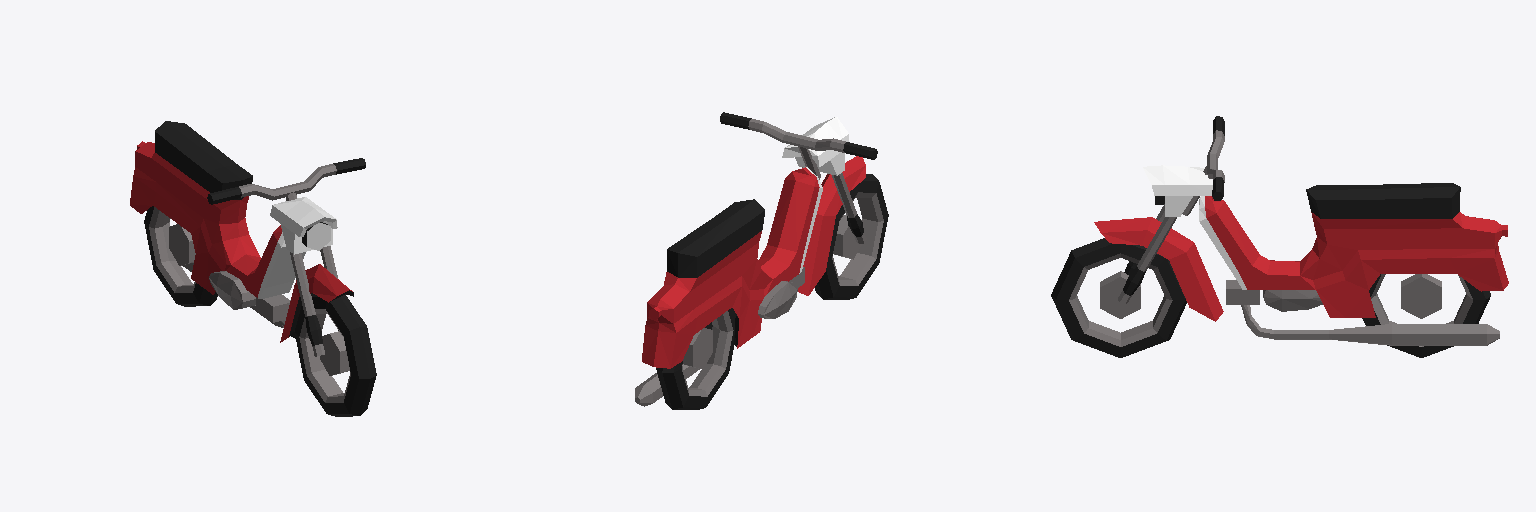
Rendered from Motor.obj.
The picture shows the model from 3 angles: view 1: azimuth 30°, elevation 25°; view 2: azimuth 150°, elevation 25°; view 3: azimuth 270°, elevation 25°; orthographic projection.
Visible parts, largest first — view 1: motorbike-old (1); view 2: motorbike-old (1); view 3: motorbike-old (1).
Boxes of the visible parts, x1,y1,x2,y2 form: motorbike-old (1): [130, 121, 376, 416]; motorbike-old (1): [635, 112, 888, 409]; motorbike-old (1): [1051, 116, 1508, 357].
Size of the model in its own units: 0.8349 by 1.07 by 2.17.